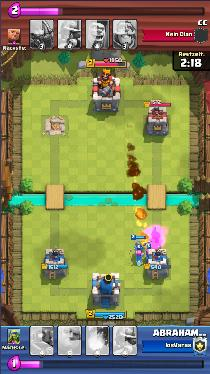ally_knight: (133, 240, 149, 253)
ally_musketeer: (134, 250, 144, 265)
enemy_fireball: (133, 208, 152, 246)
